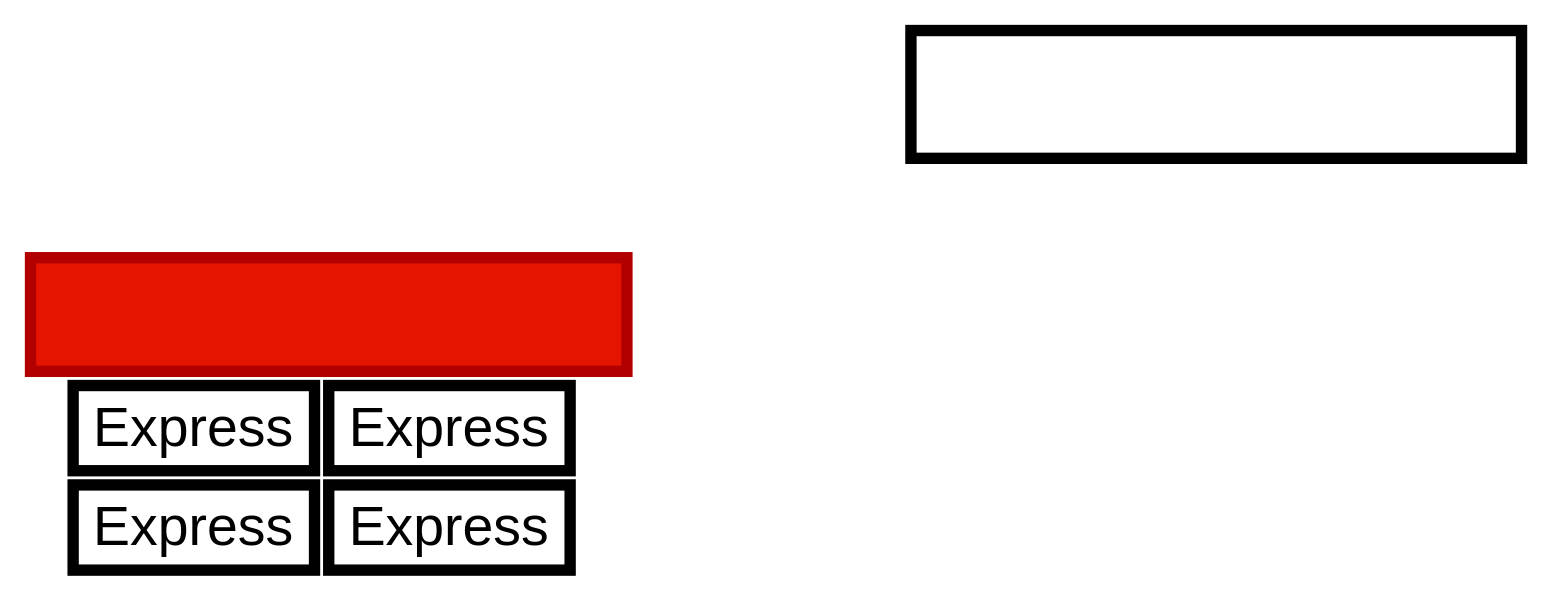
Image size: 1551x599. Some labels were removed from this diagram. The centre of each missing label's shape, as x and y in pixels:
"backend api" goes at [1215,93].
"tools" goes at [328,313].
